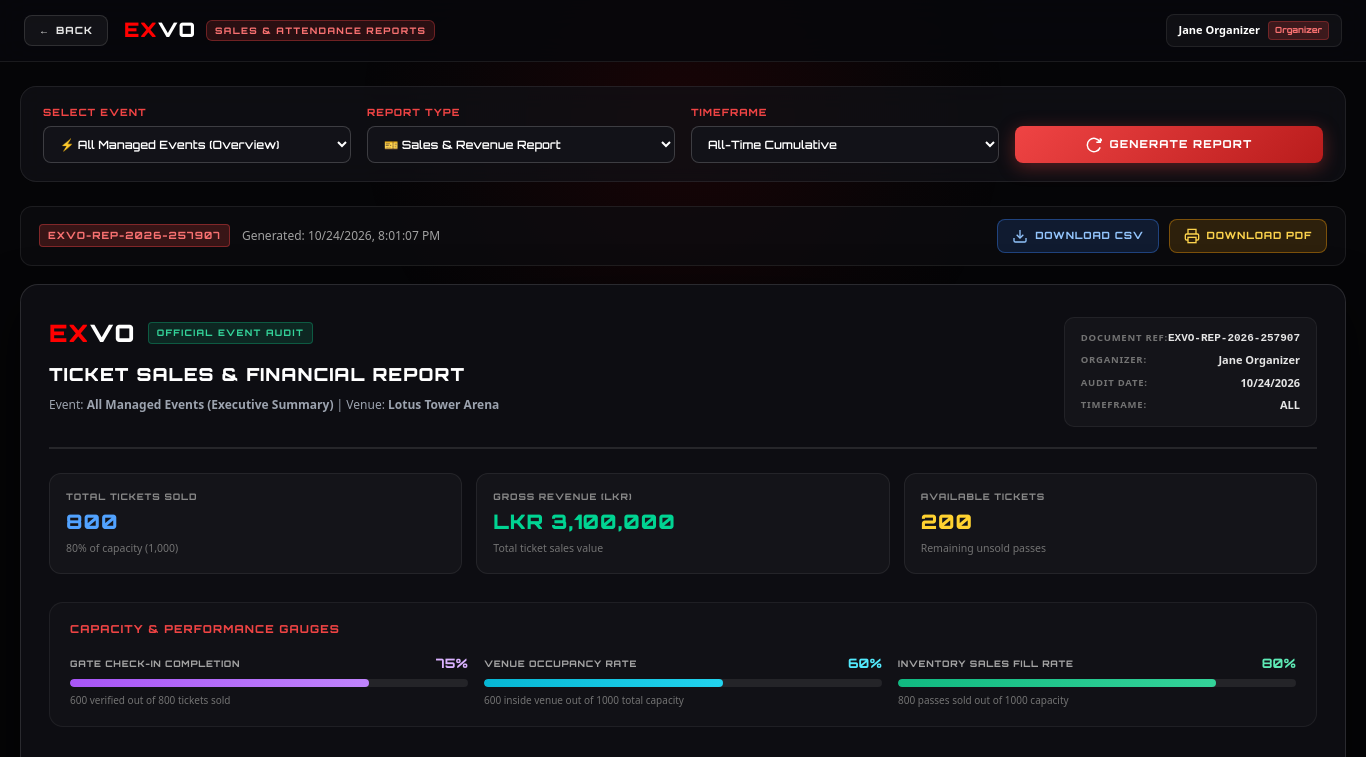
Test case: EventReportsPage (SCRUM-37) › allows switching report type to Attendance & Check-In Report
Select "👥 Attendance & Check-In Report" in the dropdown labelled "REPORT TYPE": (521, 144) [367,126,675,163]
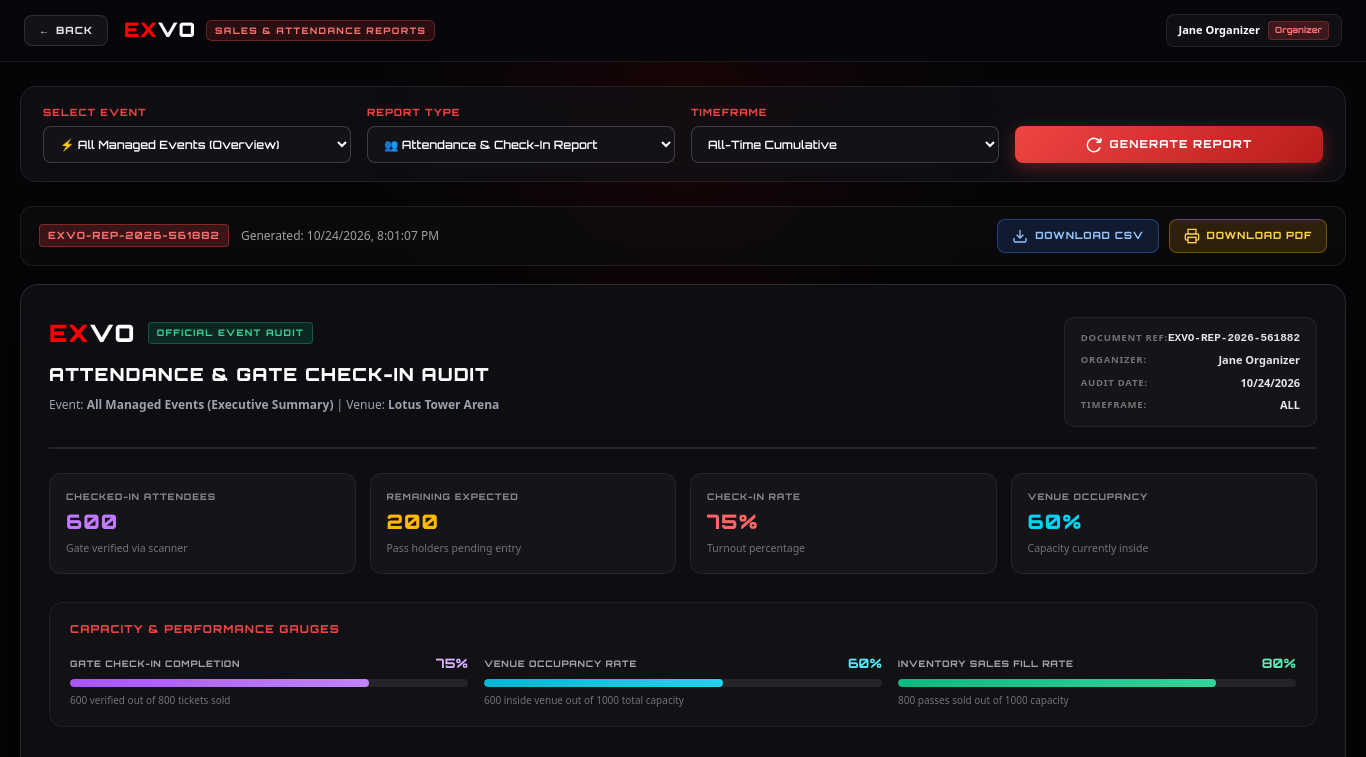
Expected: the heading "ATTENDANCE & GATE CHECK-IN AUDIT" is shown, [49,361,499,388]
Expected: the text "CHECKED-IN ATTENDEES" is shown, [66,491,216,502]
Expected: the text "REMAINING EXPECTED" is shown, [386,491,519,502]
